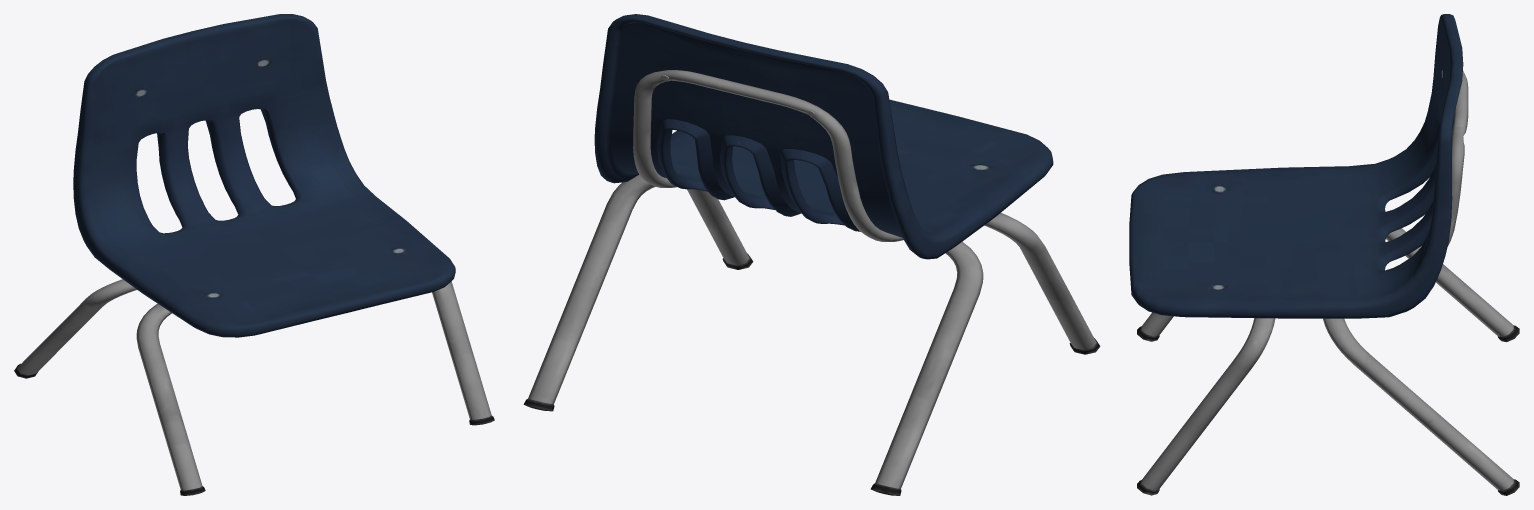
File: ph-schoolchair-01.glb
The picture shows the model from 3 angles, left to right: view 1: azimuth 30°, elevation 25°; view 2: azimuth 150°, elevation 25°; view 3: azimuth 270°, elevation 25°; orthographic projection. The views are drawn at different scales.
Visible parts, largest first — view 1: SchoolChair_01; view 2: SchoolChair_01; view 3: SchoolChair_01.
Part boxes in pixels (left/top/right/bottom): SchoolChair_01: left=14, top=14, right=494, bottom=495; SchoolChair_01: left=523, top=14, right=1100, bottom=495; SchoolChair_01: left=1129, top=14, right=1519, bottom=495.
Bounding box in the file's own units: 1 × 1 × 1.
1 material, 1 textured.
